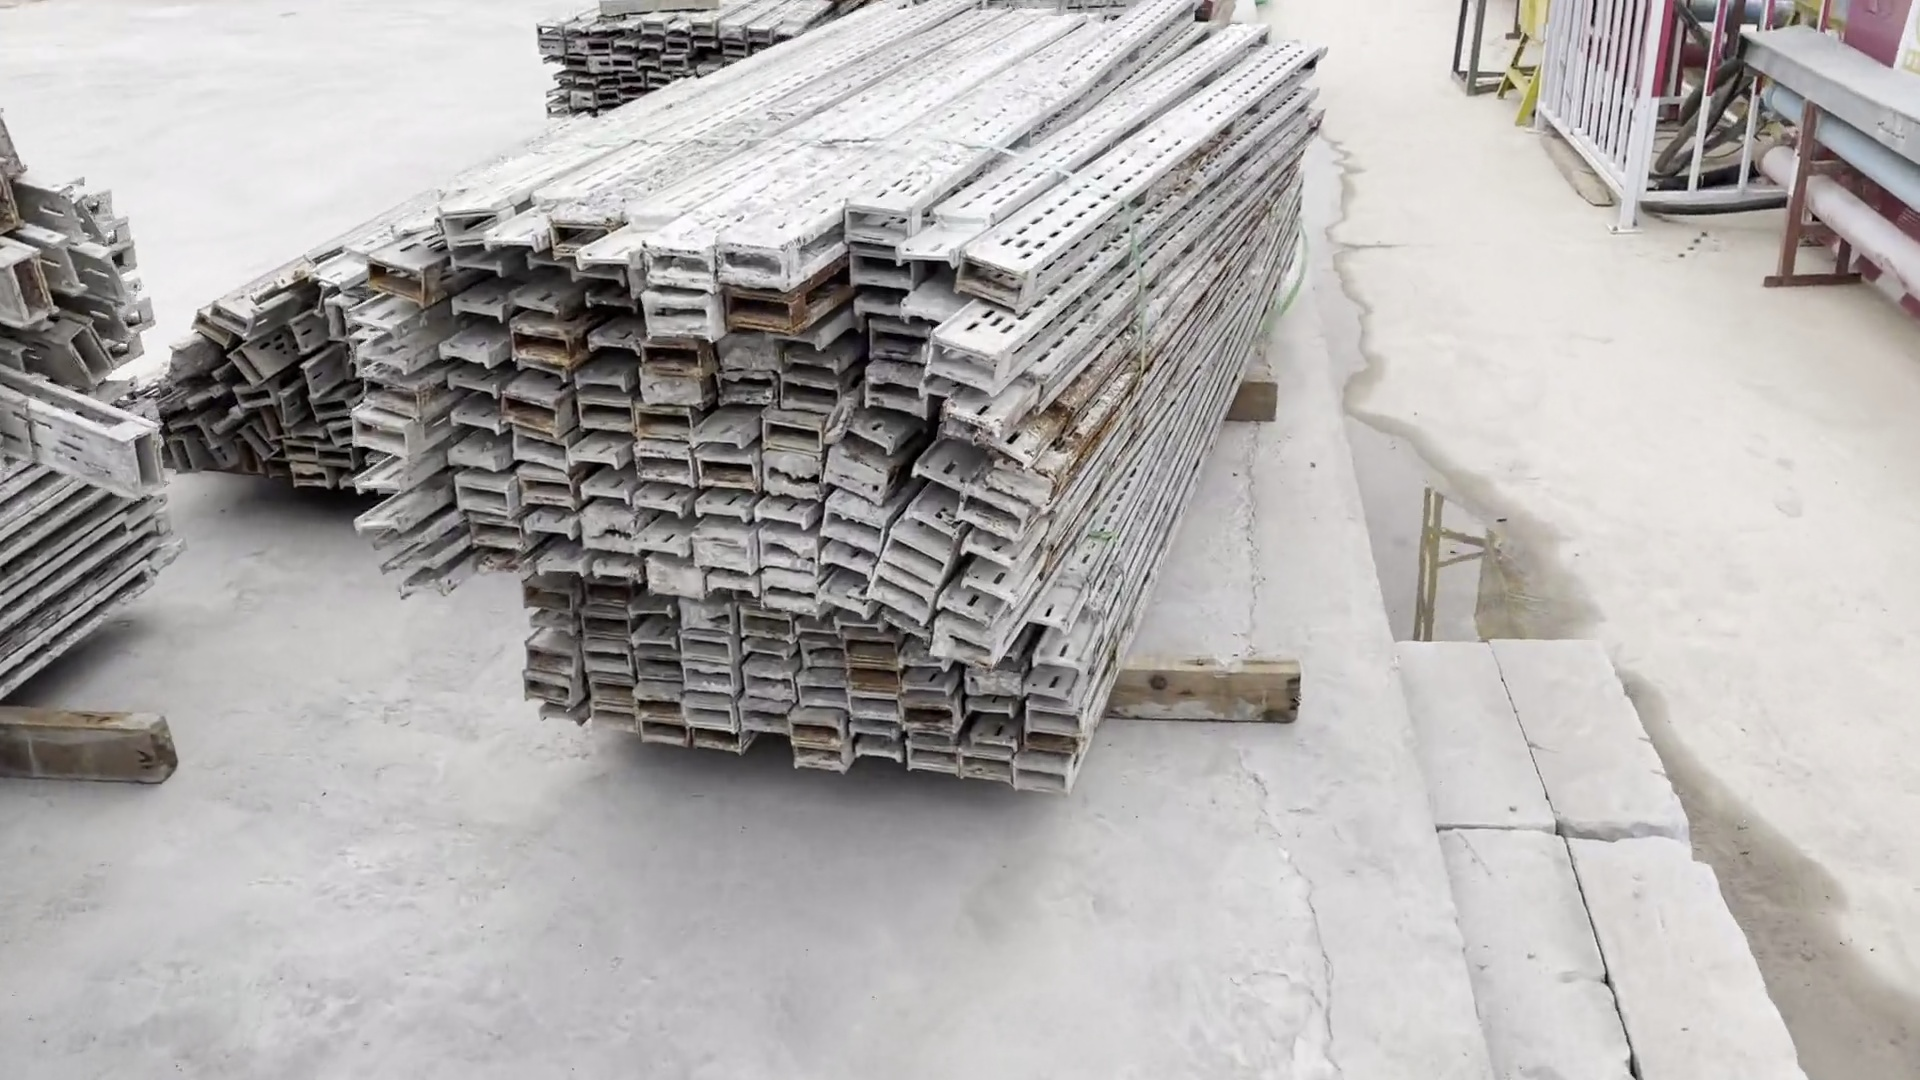brick: (1396, 624, 1824, 1080)
ebox: (1495, 4, 1552, 127)
fence: (1833, 1, 1920, 92)
